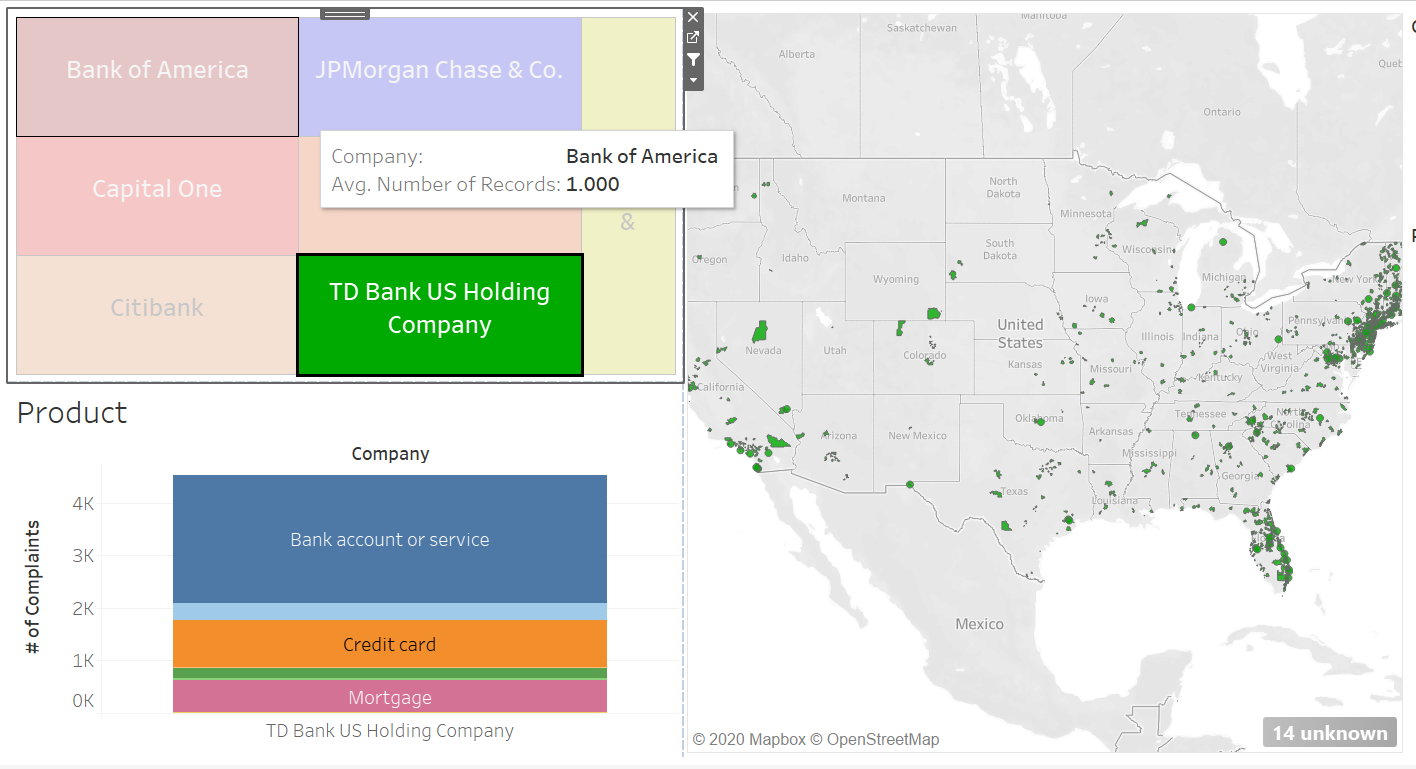

Layout of this report page (visuals, bound fields, positions):
{"tool":"tableau","page":{"name":"Dashboard 1","canvas":[1000,1000],"units":"permille","ordinal":0},"visuals":[{"type":"worksheet","title":"Banks","mark":"Automatic","box":[5.1,10.5,428.6,488.2]},{"type":"worksheet","title":"State map","mark":"Multipolygon","box":[433.7,10.5,459.7,979.1]},{"type":"legend","title":"Banks","param":"[federated.0g799zd1b8lb1p19bwwzn196hffh].[none:Company:nk]","box":[893.3,10.5,101.6,273.6]},{"type":"filter","title":"Product","param":"[federated.0g799zd1b8lb1p19bwwzn196hffh].[none:Product:nk]","box":[893.3,284,101.6,476.4]},{"type":"worksheet","title":"Product","mark":"Automatic","rows":["complaint_id"],"cols":["Company"],"box":[5.1,498.7,428.6,490.8]}]}

Visuals, with their boxes on the dashboard's canvas, which has no fixed pixel size, in thousandths of its width and height (x1, y1, x2, y2). These are canvas units, not pixel positions in the 1416x769 screenshot, which may show the page scaled, cropped or inside an application window:
"Banks" worksheet: (5, 10, 434, 499)
"State map" worksheet (Multipolygon marks): (434, 10, 893, 990)
"Banks" legend: (893, 10, 995, 284)
"Product" filter: (893, 284, 995, 760)
"Product" worksheet: (5, 499, 434, 990)
